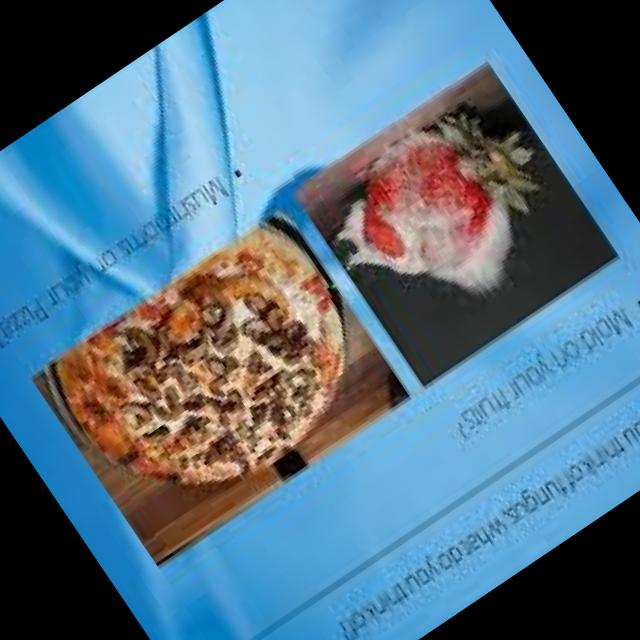Organic: (38, 204, 400, 550), (278, 49, 592, 370)
